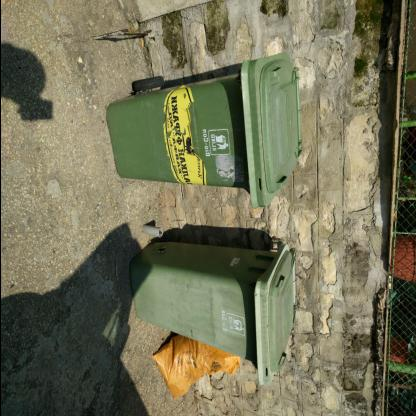diger: (150, 334, 240, 400)
